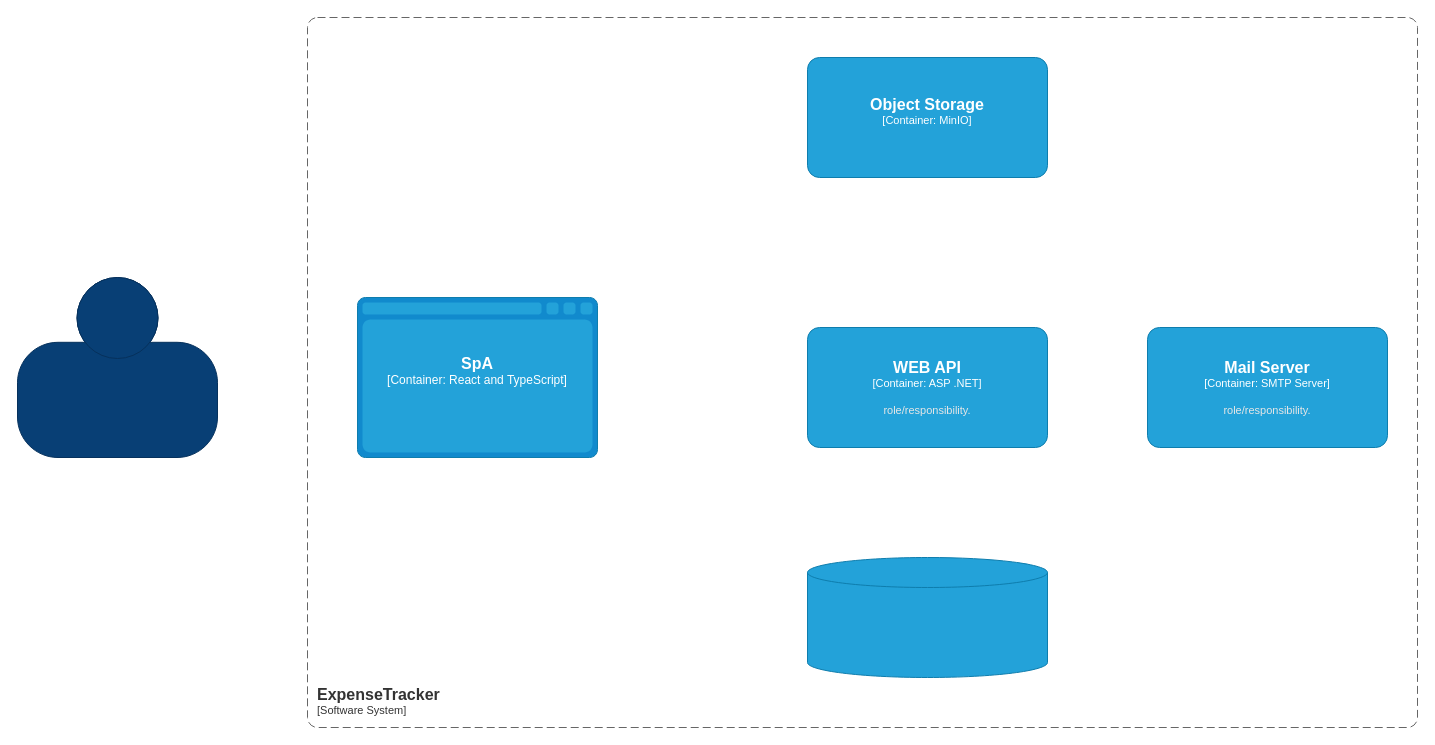
The diagram is 1435 pixels wide and 745 high, and some of its shapes have lost their labels. The centre of each missing label's shape, as x and y in pixels:
[Person]: the point at 117,367
Database [Container: Postgress]: the point at 927,617
